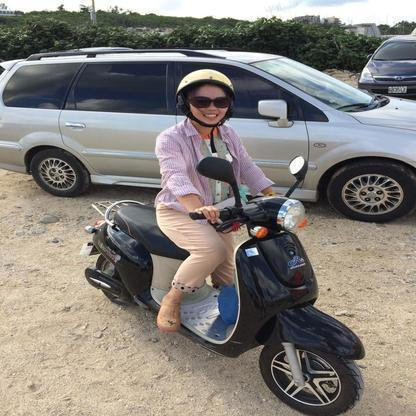target: (81, 66, 367, 411)
